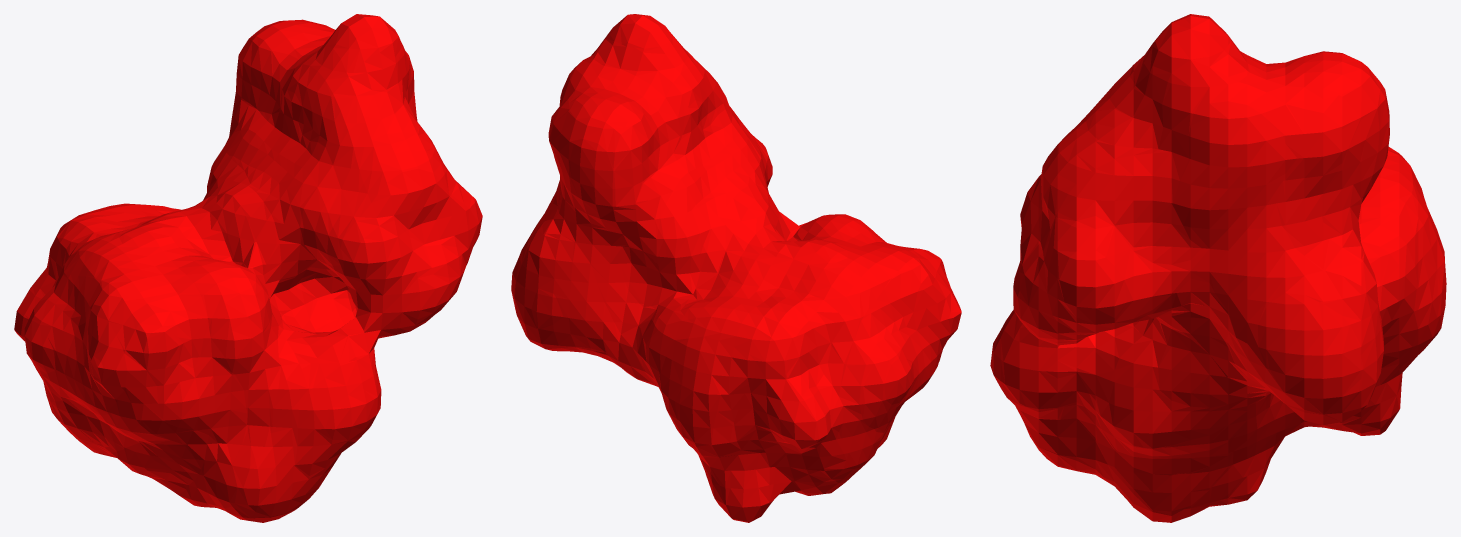
The model's file is fes_coarse.dae.
3 renders of one model, left to right at view 1: azimuth 30°, elevation 25°; view 2: azimuth 150°, elevation 25°; view 3: azimuth 270°, elevation 25°, orthographic. The views are drawn at different scales.
Parts seen in each view (by area): view 1: fes; view 2: fes; view 3: fes.
Part boxes in pixels (left/top/right/bottom): fes: left=14, top=14, right=482, bottom=522; fes: left=511, top=14, right=961, bottom=522; fes: left=990, top=14, right=1446, bottom=522.
Size of the model in its own units: 63.35 by 72.9 by 53.25.
